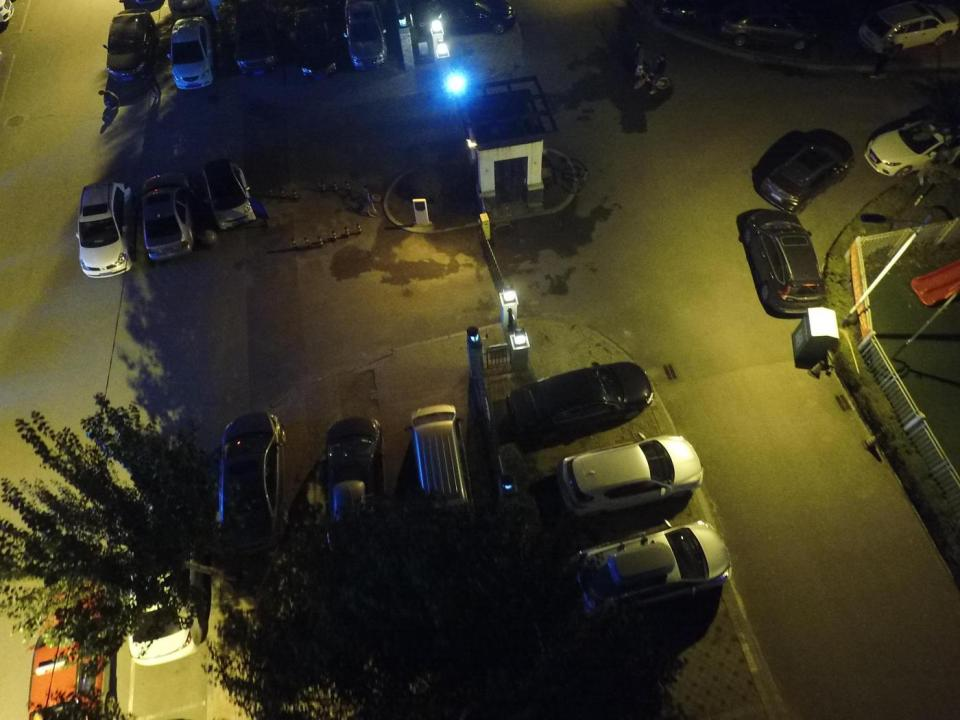car: (569, 521, 731, 619), (124, 498, 206, 662), (554, 431, 704, 519), (510, 361, 653, 439), (28, 580, 106, 718), (217, 412, 288, 556), (320, 415, 390, 559), (739, 210, 823, 314), (760, 138, 850, 214), (863, 118, 959, 176), (859, 0, 958, 54), (79, 182, 134, 276), (141, 172, 197, 262), (721, 9, 823, 57), (200, 156, 259, 231), (414, 0, 516, 36), (106, 9, 156, 81), (230, 0, 277, 76), (171, 16, 214, 90), (296, 0, 336, 76), (345, 0, 386, 71), (664, 0, 713, 26)
van: (406, 404, 476, 529)
